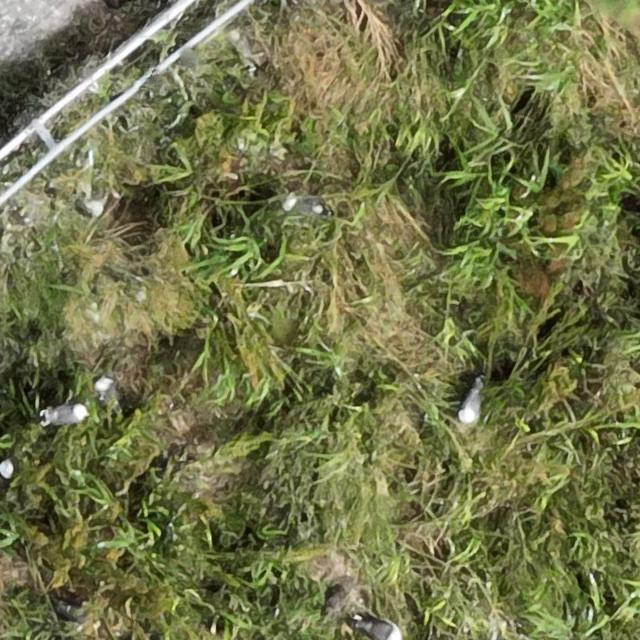umineko: (98, 376, 126, 420), (46, 404, 86, 424), (360, 620, 400, 640), (461, 386, 482, 424), (284, 196, 325, 214), (0, 460, 12, 481)
